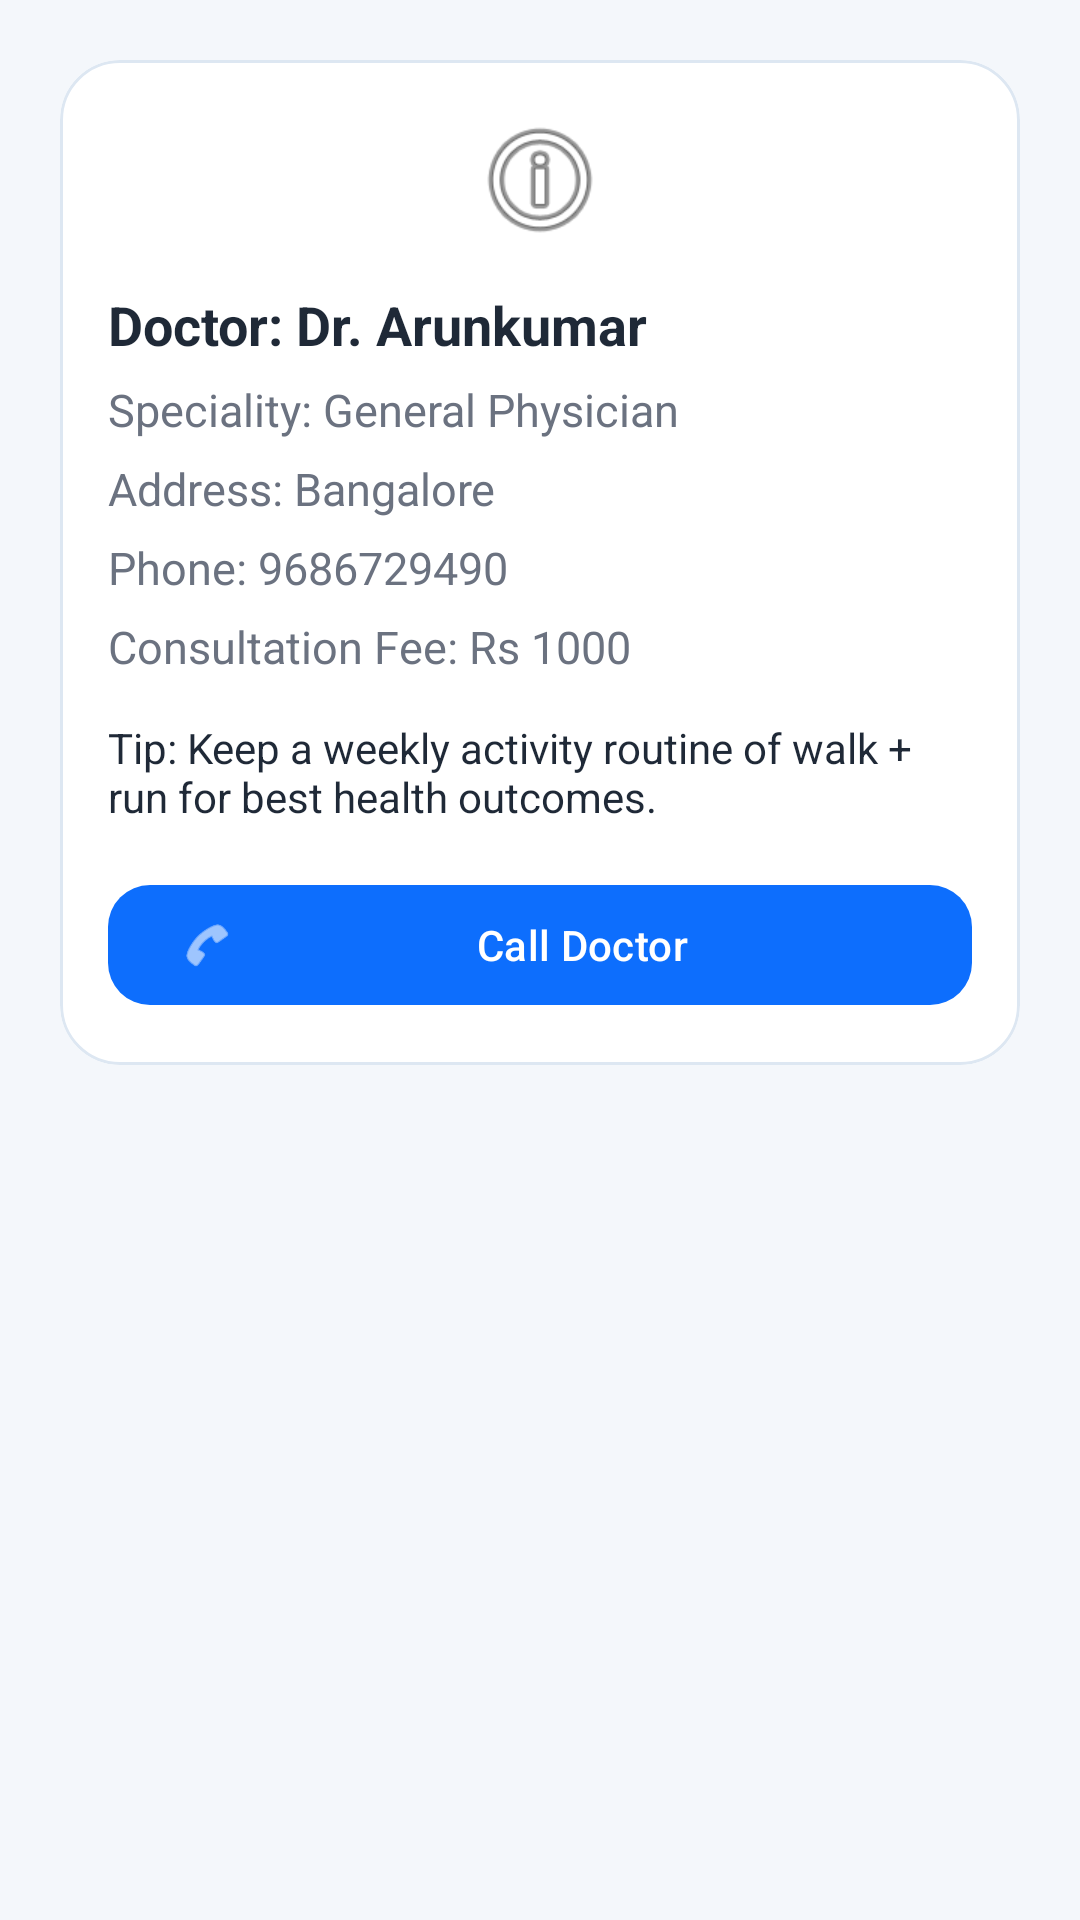

Screen size 1080x1920. Icon name, then its box in pixels as (x1, y1, x2, y2):
info details: (488, 128, 592, 232)
